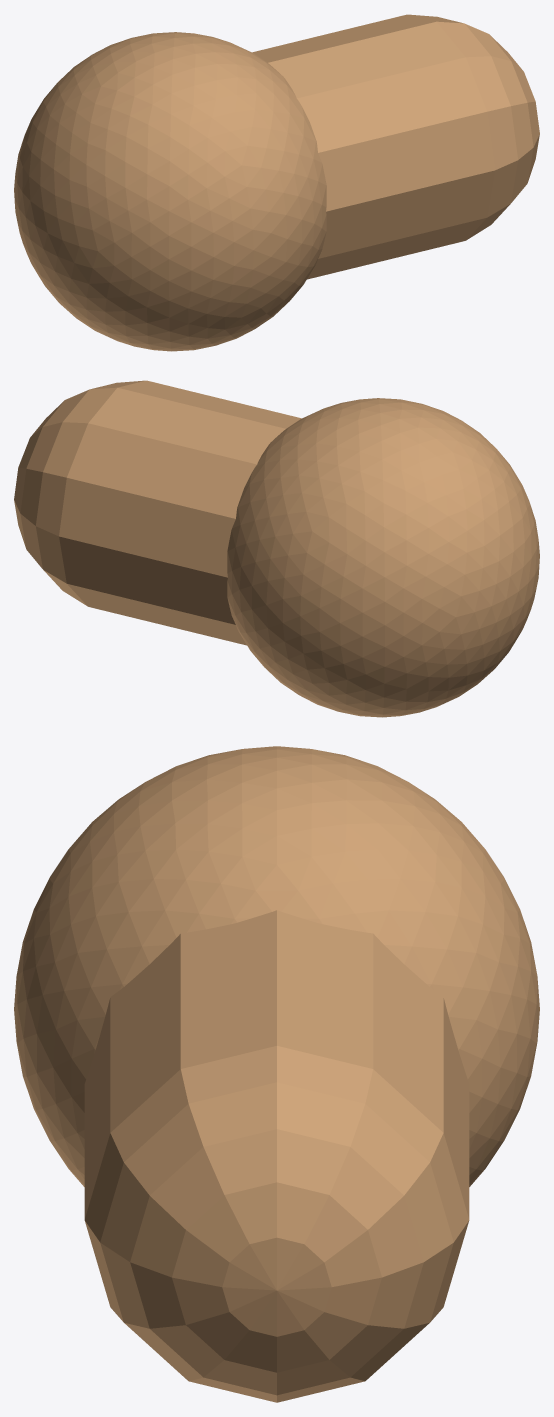
3 views of the same model, one above another, from view 1: azimuth 30°, elevation 25°; view 2: azimuth 150°, elevation 25°; view 3: azimuth 270°, elevation 25° (orthographic). The views are drawn at different scales.
Visible parts, largest first — view 1: world; view 2: world; view 3: world.
Boxes of the visible parts, box(x1,y1,x2,y2) form: world: box(14, 14, 539, 351); world: box(14, 380, 539, 717); world: box(14, 746, 539, 1402).
Bounding box in the file's own units: 0.1625 × 0.092 × 0.092.
